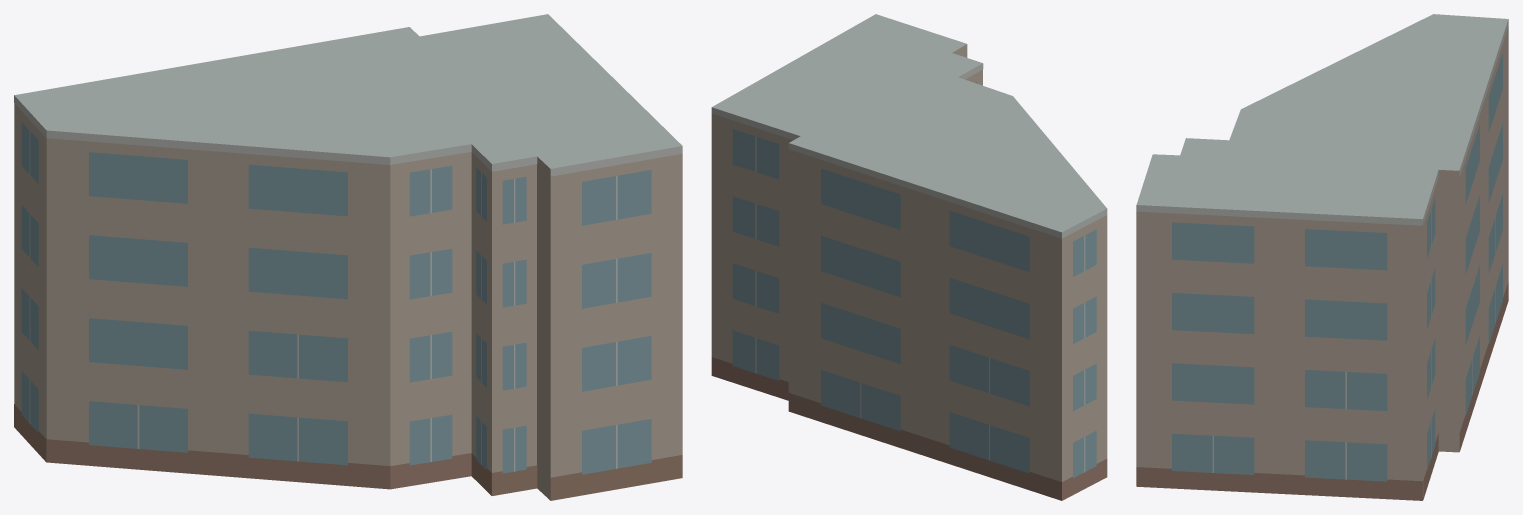
Rendered from survey-upis-32529706.glb.
The picture shows the model from 3 angles, left to right: view 1: azimuth 30°, elevation 25°; view 2: azimuth 150°, elevation 25°; view 3: azimuth 270°, elevation 25°; orthographic projection. The views are drawn at different scales.
Visible parts, largest first — view 1: survey-upis-32529706.tmp; view 2: survey-upis-32529706.tmp; view 3: survey-upis-32529706.tmp.
Boxes of the visible parts, x1,y1,x2,y2 form: survey-upis-32529706.tmp: (14, 14, 682, 500); survey-upis-32529706.tmp: (711, 14, 1107, 500); survey-upis-32529706.tmp: (1136, 14, 1508, 500).
Bounding box in the file's own units: 16.41 × 10.5 × 12.58.
